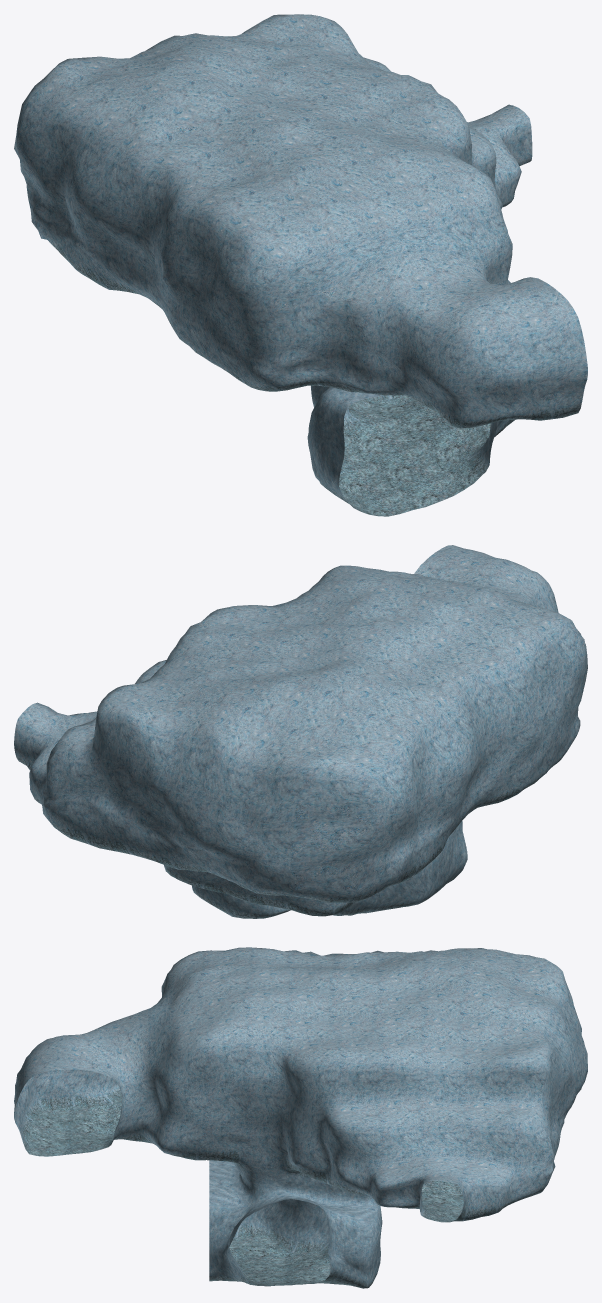
File: thm_all_cave_s01_ice_r8_mesh_r8.fbx
3 renders of one model, top to bottom at view 1: azimuth 30°, elevation 25°; view 2: azimuth 150°, elevation 25°; view 3: azimuth 270°, elevation 25°, orthographic. The views are drawn at different scales.
Visible parts, largest first — view 1: mesh_node; view 2: mesh_node; view 3: mesh_node.
Boxes of the visible parts, bbox=[...] form: mesh_node: bbox=[14, 14, 587, 516]; mesh_node: bbox=[14, 545, 587, 918]; mesh_node: bbox=[14, 947, 587, 1288].
Size of the model in its own units: 94.34 by 69.23 by 131.
